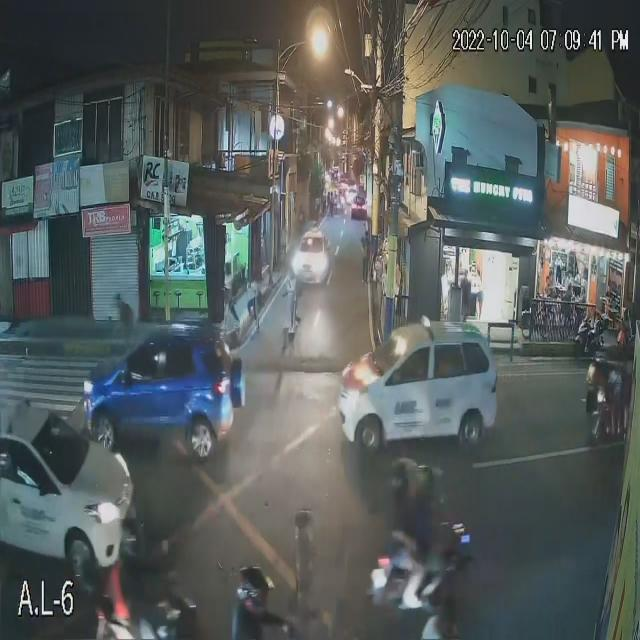helmet: (230, 564, 276, 616), (389, 454, 416, 492), (416, 463, 446, 495)
motorcycle: (365, 519, 474, 640), (573, 311, 606, 356)
rider: (414, 502, 457, 615), (389, 499, 426, 605)
